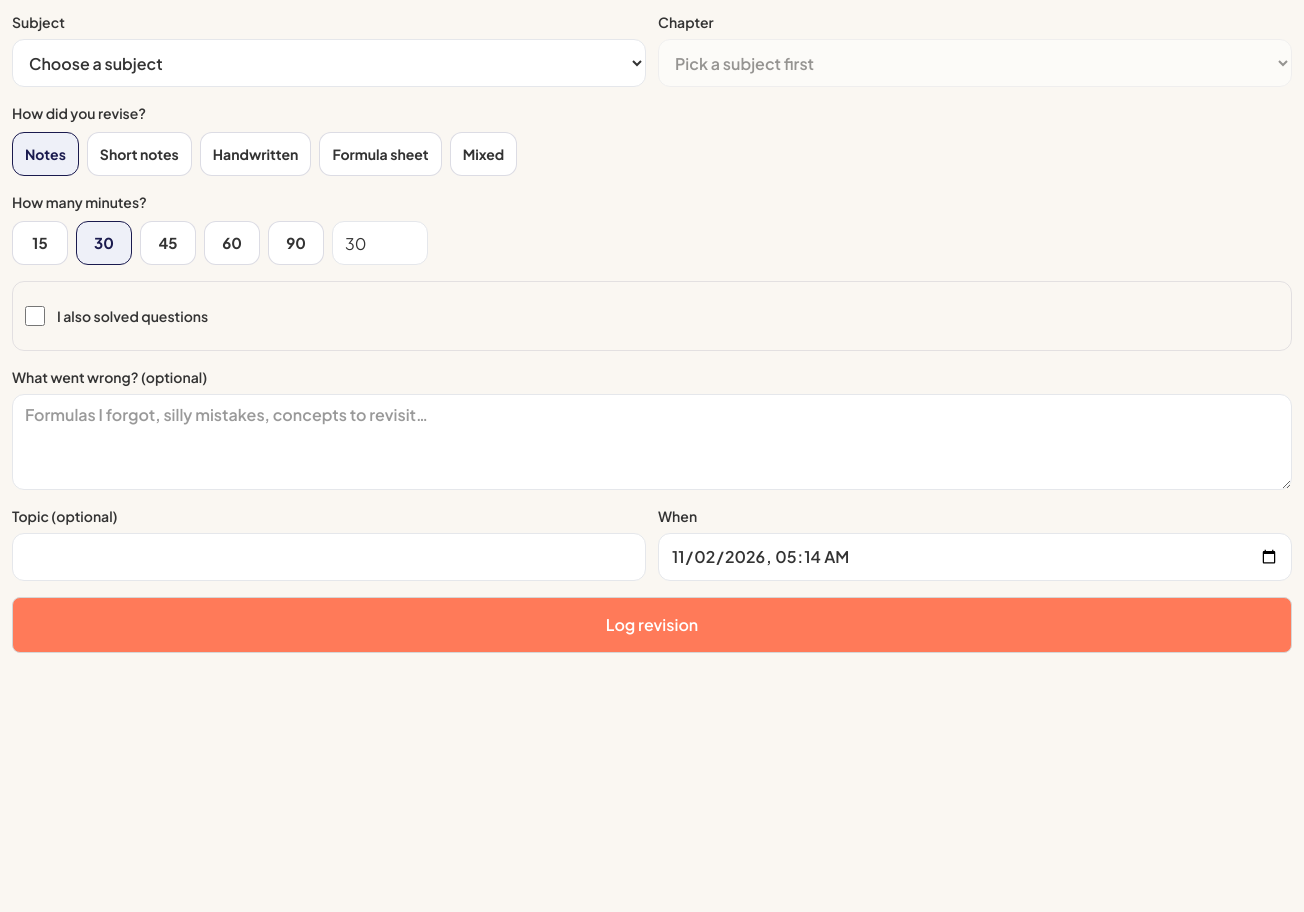
it: RevisionForm › needs a subject, then a chapter, and says so
Click the button with test id "rev-submit" at point(652, 625), box [12,597,1292,653]
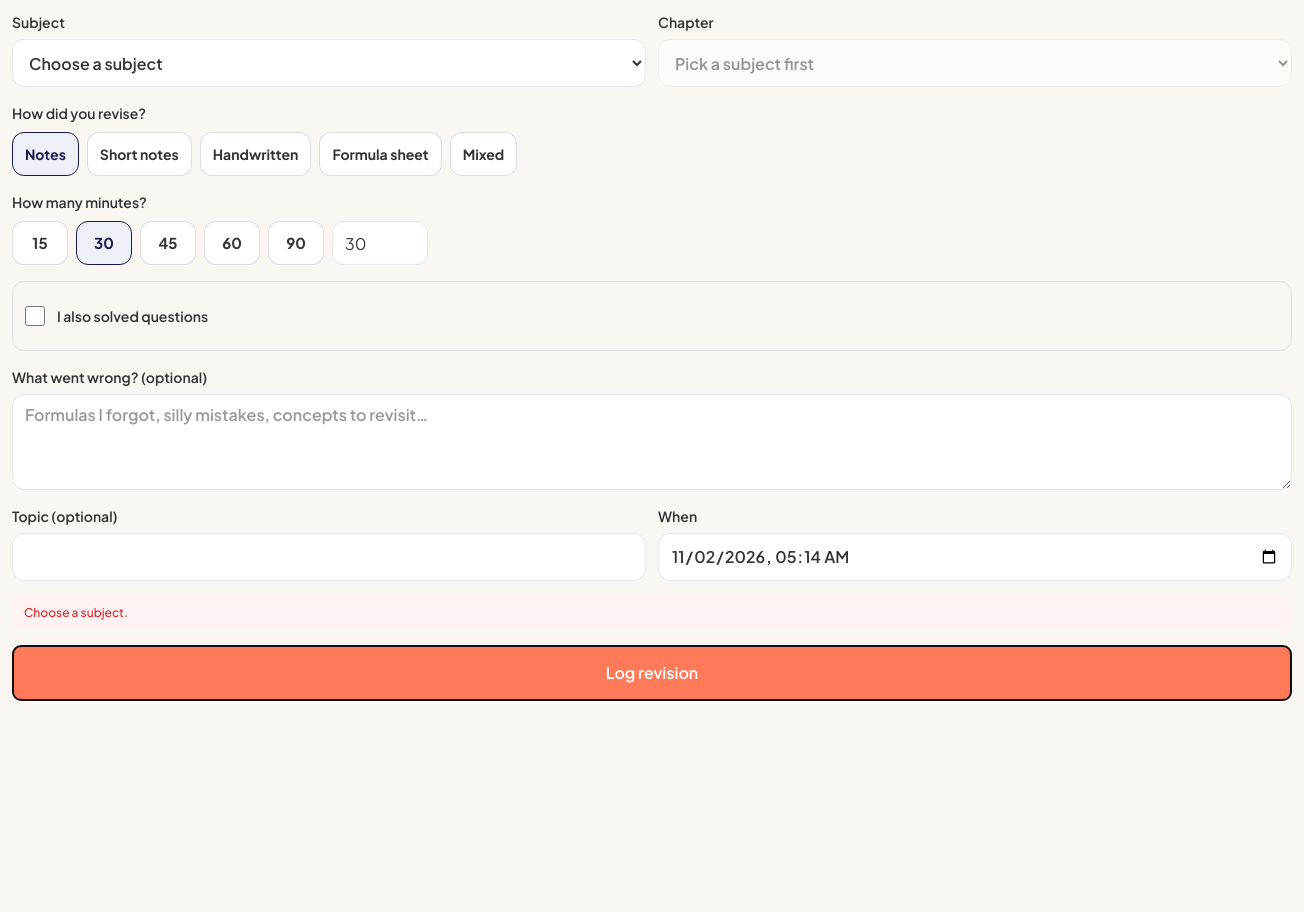
Expected: the message reads "Choose a subject.", [24,605,128,620]
Select "Physics" in the dropdown with test id "rev-subject" at point(329, 63), box [12,39,646,87]
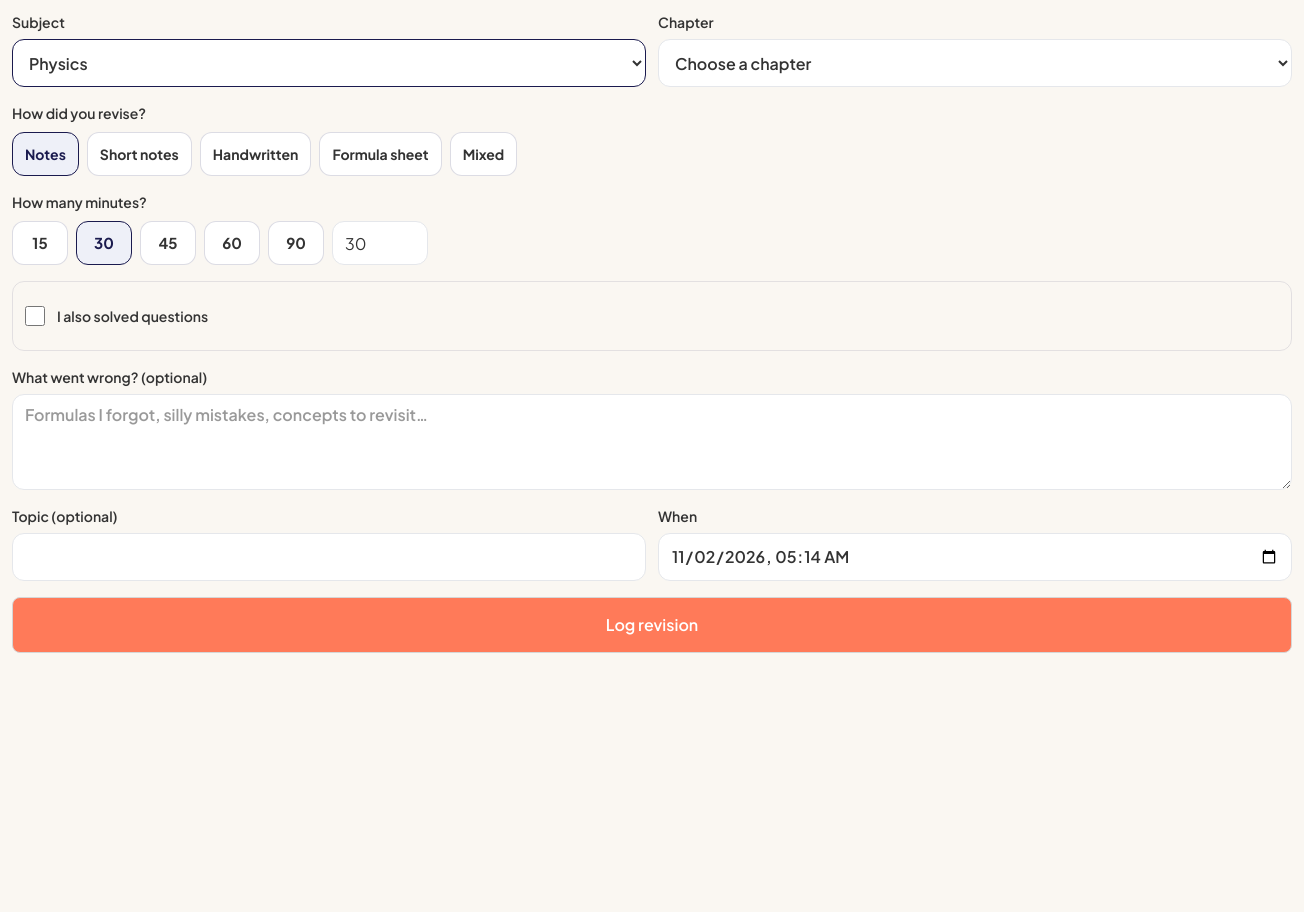
Click the button with test id "rev-submit" at point(652, 625), box [12,597,1292,653]
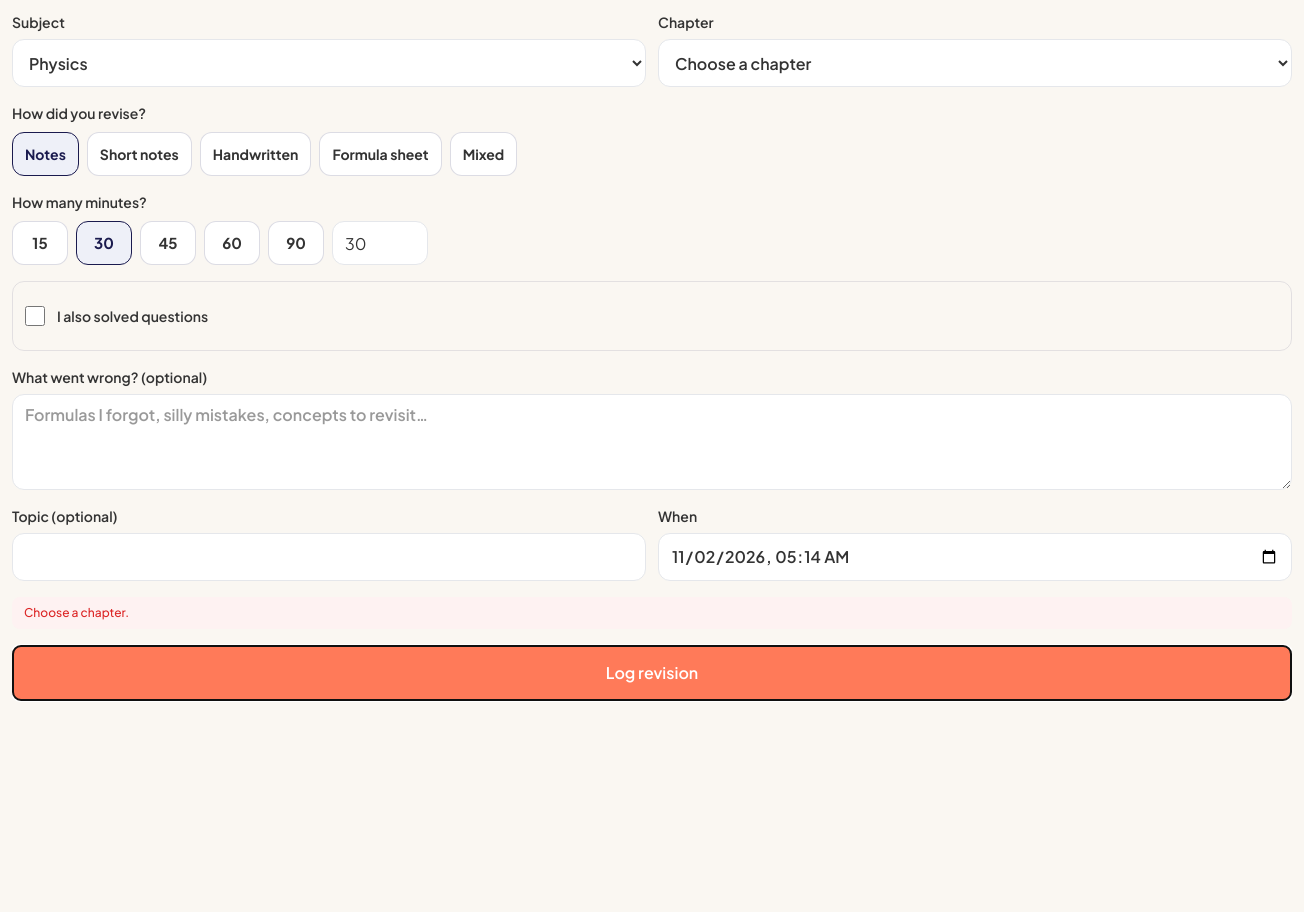
Expected: the message reads "Choose a chapter.", [24,605,129,620]
